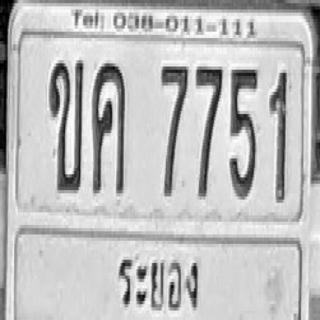A02: (48, 59, 84, 192)
A04: (92, 62, 125, 195)
N01: (269, 70, 287, 203)
N05: (229, 66, 258, 196)
N07: (161, 64, 189, 196), (196, 65, 222, 198)
P53: (108, 231, 215, 320)
